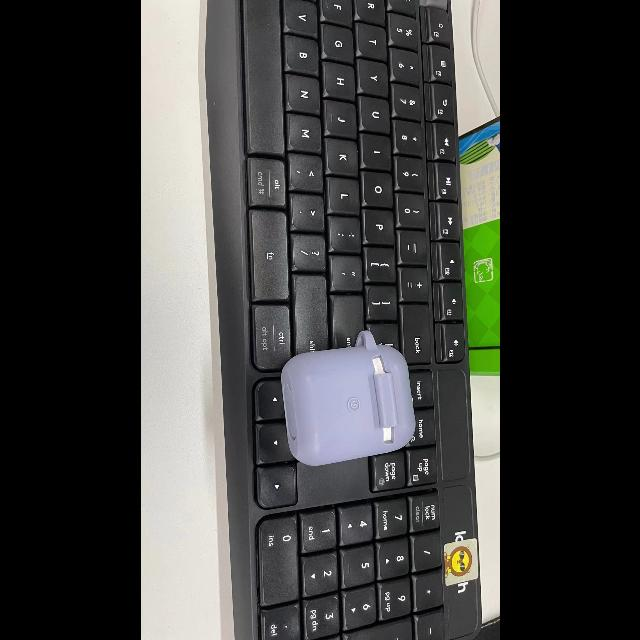airpods: (280, 331, 419, 467)
